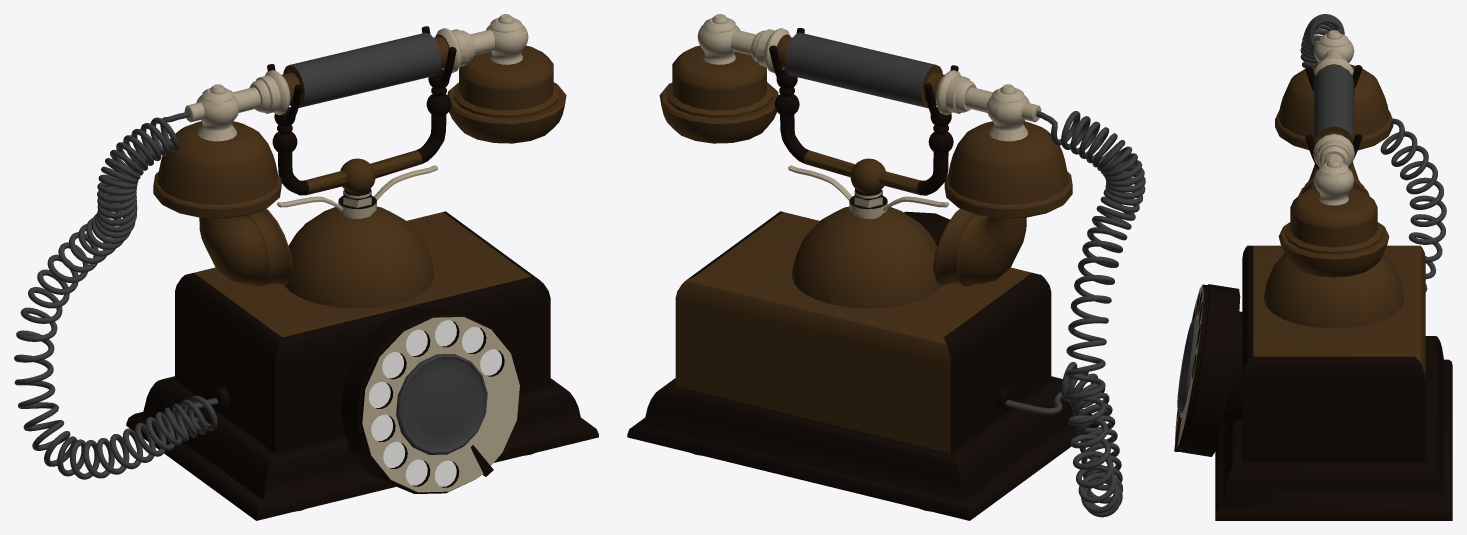
The model's file is Telefon.fbx.
3 renders of one model, left to right at view 1: azimuth 30°, elevation 25°; view 2: azimuth 150°, elevation 25°; view 3: azimuth 270°, elevation 25°, orthographic. The views are drawn at different scales.
Parts seen in each view (by area): view 1: polySurface39, polySurface40, polySurface44, polySurface42, polySurface41; view 2: polySurface39, polySurface40, polySurface44; view 3: polySurface39, polySurface40, polySurface44, polySurface42.
Boxes of the visible parts, box(x1,y1,x2,y2) form: polySurface39: box(126, 26, 598, 520); polySurface40: box(153, 14, 566, 286); polySurface44: box(14, 111, 218, 479); polySurface42: box(396, 354, 487, 454); polySurface41: box(368, 320, 501, 486); polySurface39: box(627, 28, 1099, 520); polySurface40: box(659, 14, 1072, 286); polySurface44: box(1005, 111, 1145, 517); polySurface39: box(1174, 65, 1452, 520); polySurface40: box(1275, 30, 1393, 277); polySurface44: box(1300, 14, 1446, 291); polySurface42: box(1177, 319, 1197, 413).
Bounding box in the file's own units: 9.71 × 7.44 × 5.21.
